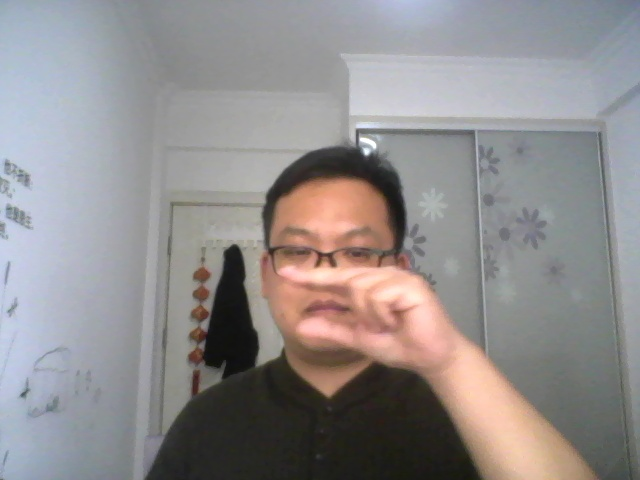No: (263, 258, 477, 376)
